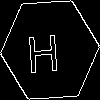H: (25, 25, 61, 74)
